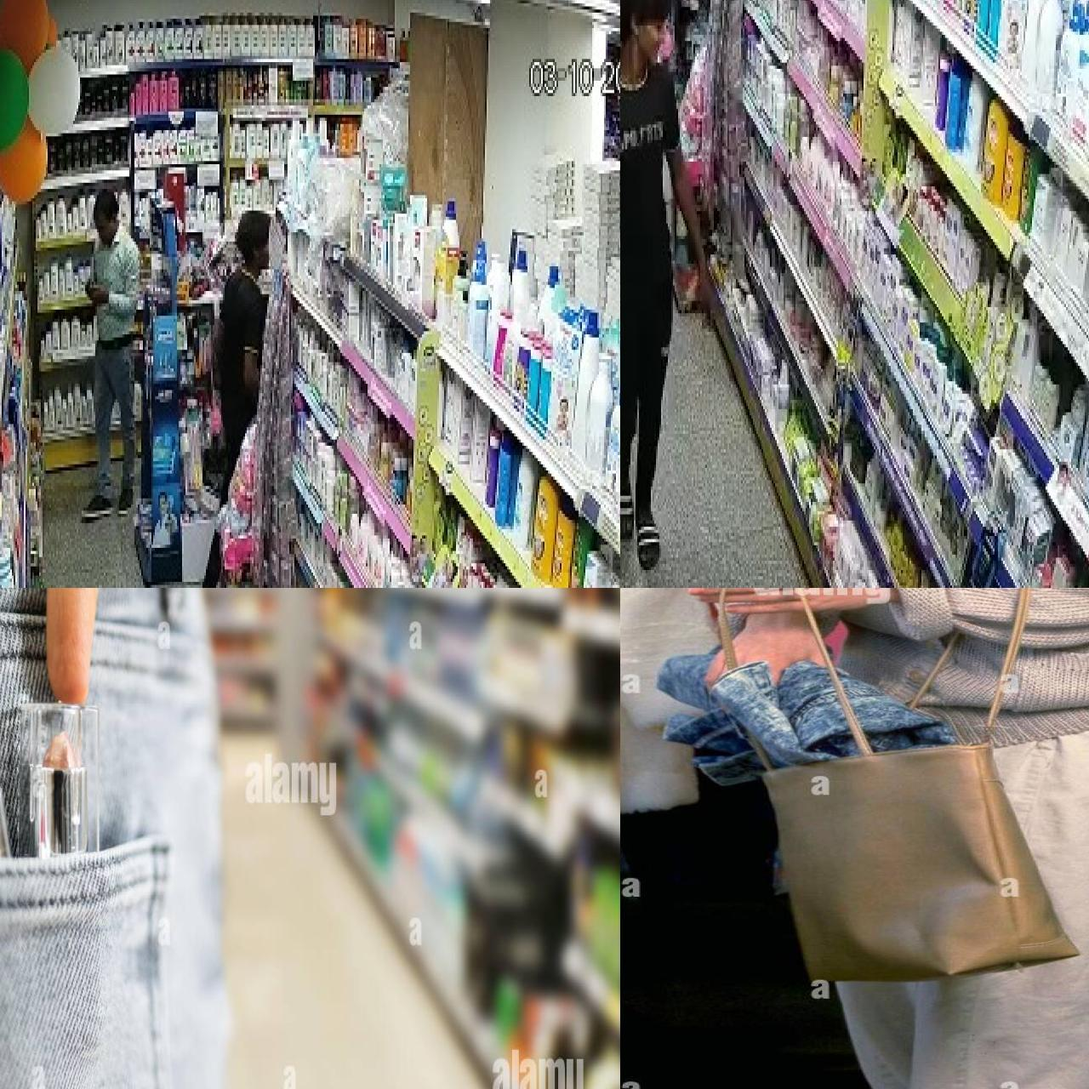shoplifting: (622, 588, 1089, 1089)
